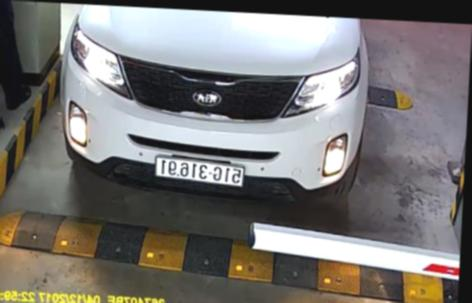License_Plate: (146, 154, 252, 190)
